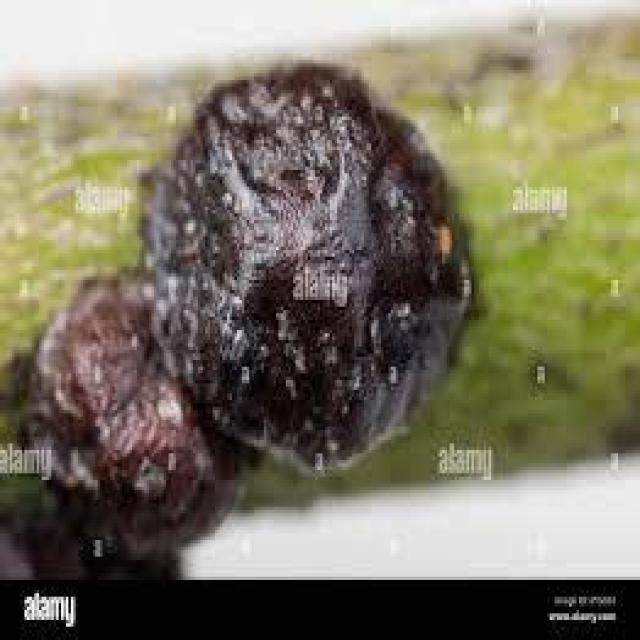BlackScale: (156, 67, 474, 470), (24, 274, 240, 574)
